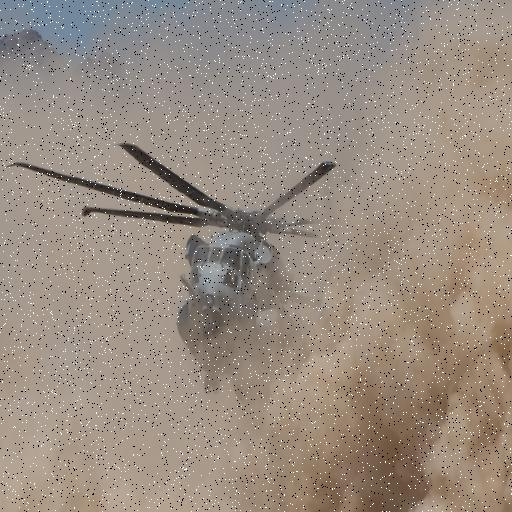helicopter: (17, 140, 333, 392)
